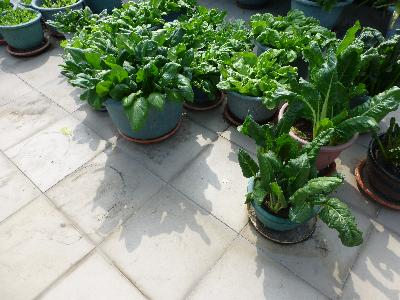plate: (243, 194, 322, 246), (352, 153, 400, 210), (114, 113, 186, 148), (3, 35, 52, 58)
